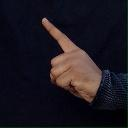hand: (41, 16, 102, 103)
